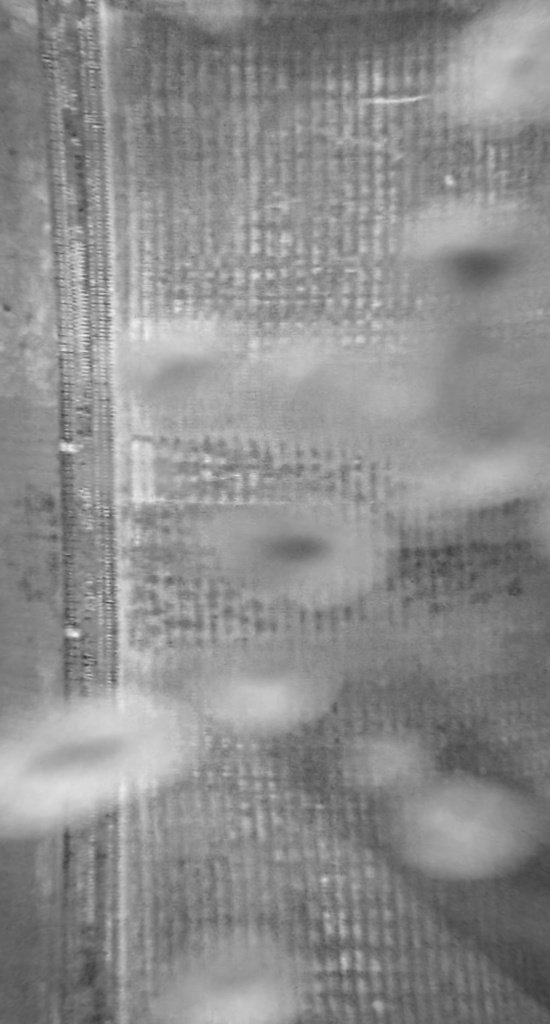splice: (31, 1, 128, 1023)
